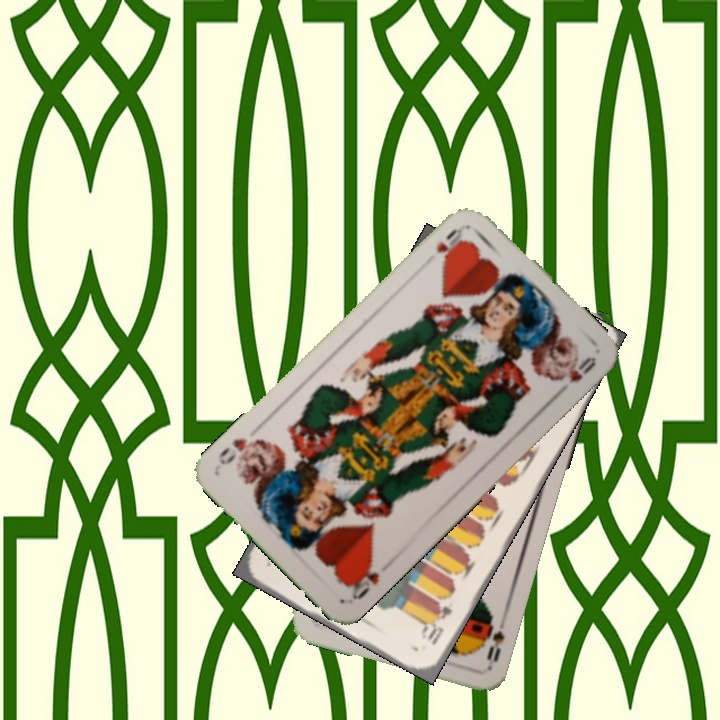E10: (418, 601, 455, 648)
HO: (343, 556, 382, 602), (432, 221, 468, 266)
SO: (480, 611, 507, 670)
